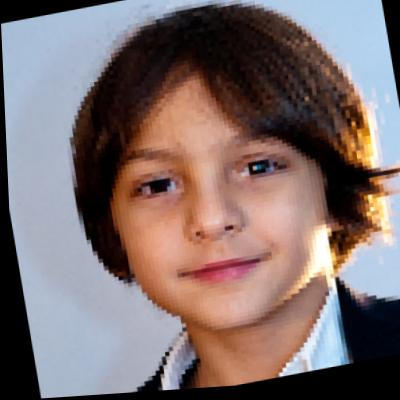happy: (51, 0, 390, 359)
